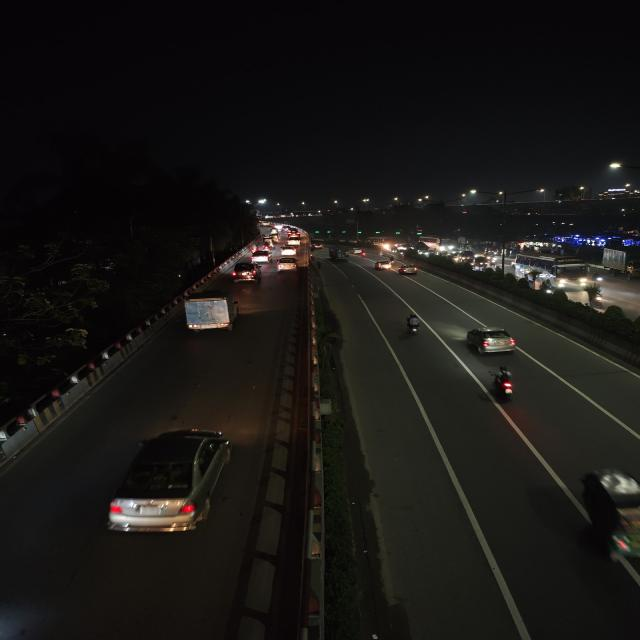bus: (515, 254, 592, 289), (419, 236, 454, 252), (329, 248, 351, 262)
car: (102, 424, 240, 540), (463, 325, 522, 359), (230, 261, 262, 283), (275, 257, 299, 273), (396, 264, 419, 277), (250, 250, 273, 262), (278, 245, 299, 257), (373, 258, 394, 270), (284, 237, 301, 248), (285, 233, 302, 243), (310, 240, 324, 250), (353, 248, 366, 256)
motorcycle: (488, 364, 521, 404), (401, 312, 424, 338), (581, 285, 607, 303)
truck: (181, 289, 243, 337), (603, 246, 639, 280)
